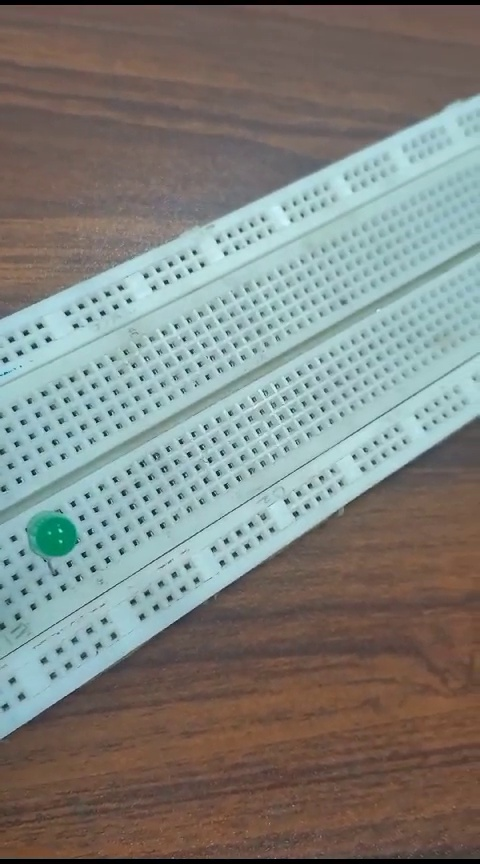LED: (20, 500, 80, 573)
